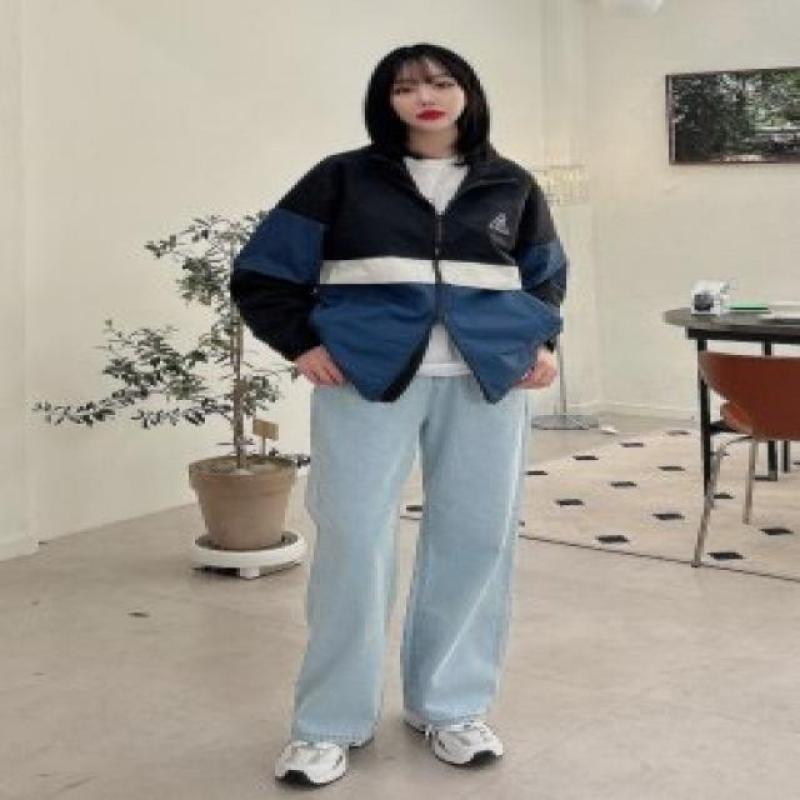jacket: (228, 140, 572, 406)
trousers: (287, 371, 528, 742)
